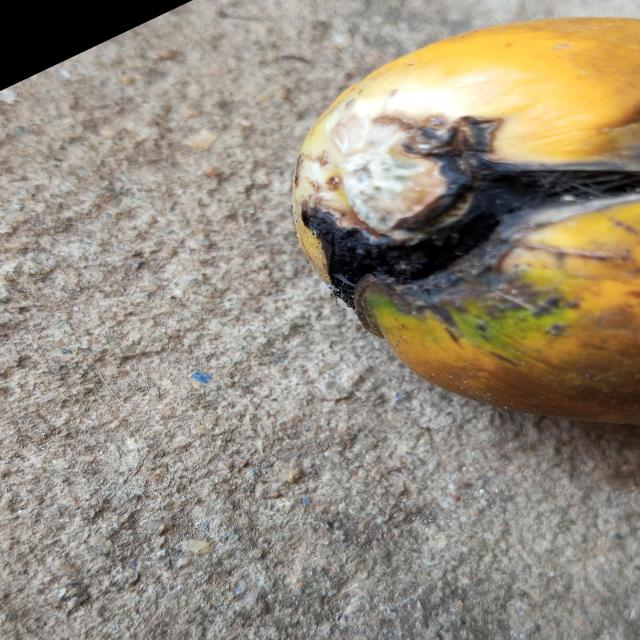damaged: (293, 18, 640, 423)
